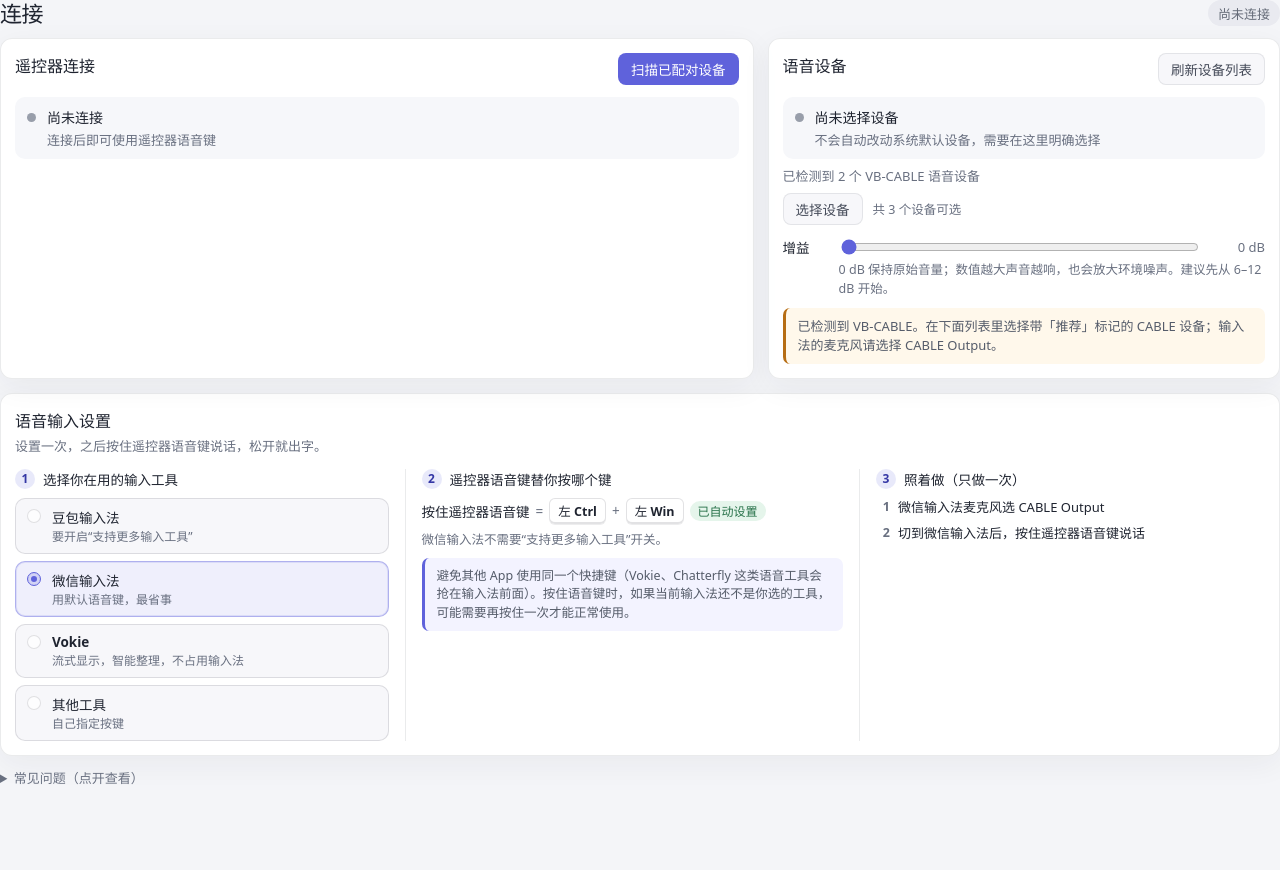
Test: VB-CABLE first-launch guidance › recommends only the standard VB-Audio CABLE Input, never the other endpoints
Click the button "选择设备": (823, 209) top-left (783, 193), bottom-right (863, 225)
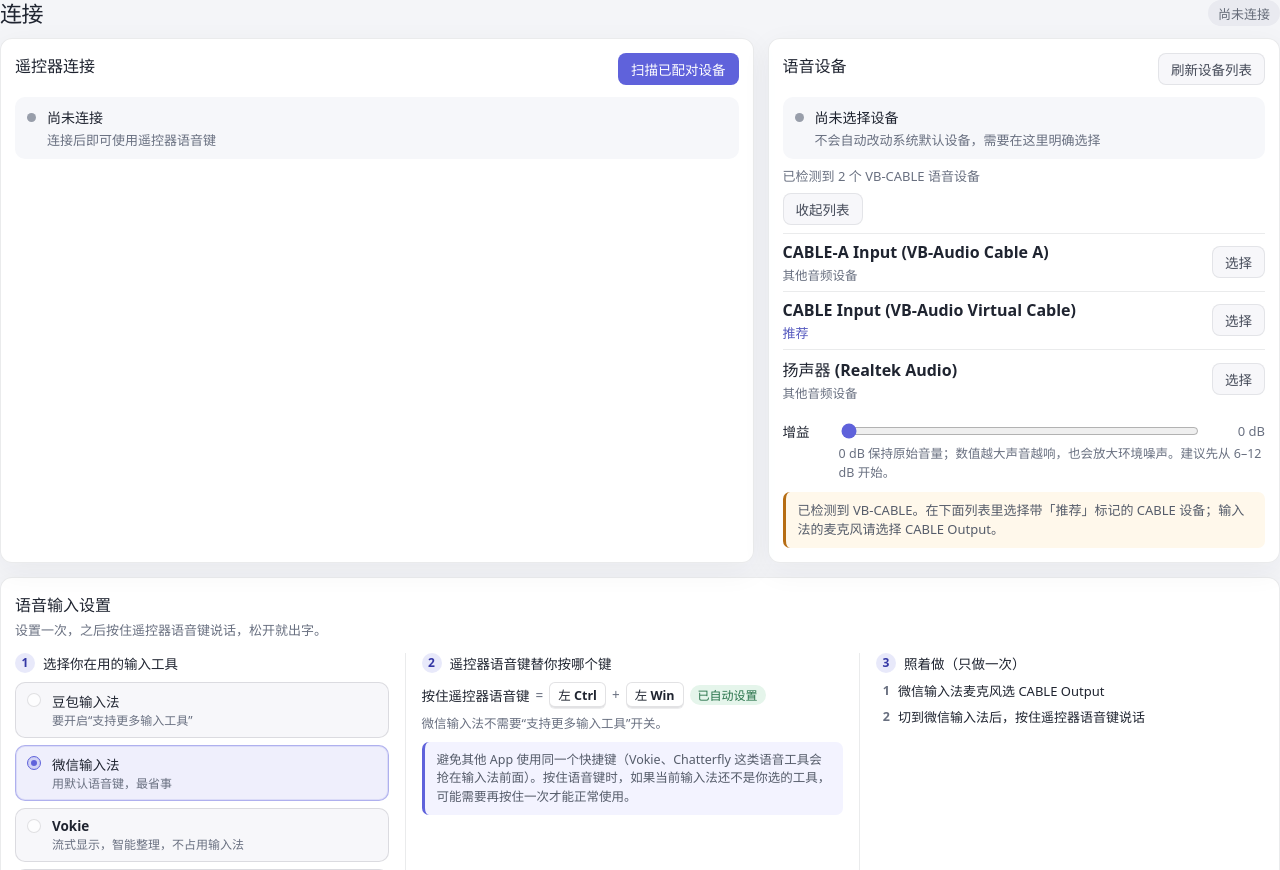
Result: the number of elements with class "endpoint-recommend" is 1 at top-left (783, 324), bottom-right (809, 342)
Result: the text with class "endpoint-recommend" reads "推荐" at top-left (783, 324), bottom-right (809, 342)
Result: the list item "CABLE-A Input (VB-Audio Cable A) 其他音频设备 选择" is shown at top-left (783, 233), bottom-right (1265, 291)
